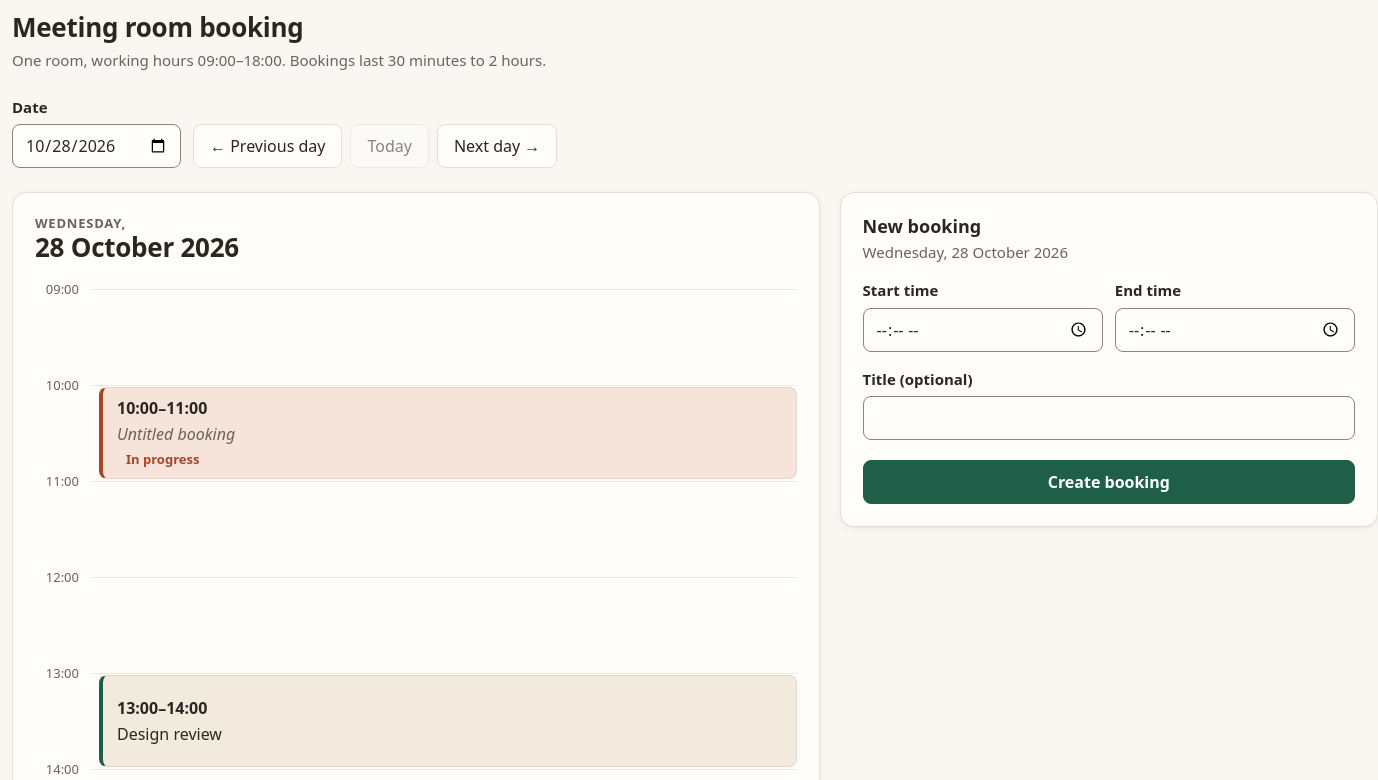
Test: 422 — server rejects what the client accepted › shows the server reason and keeps the values
Check: the list is shown, box [99,387,797,767]
Type "11:00" into the time field labelled "Start time" at [983, 330], box [863,308,1103,352]
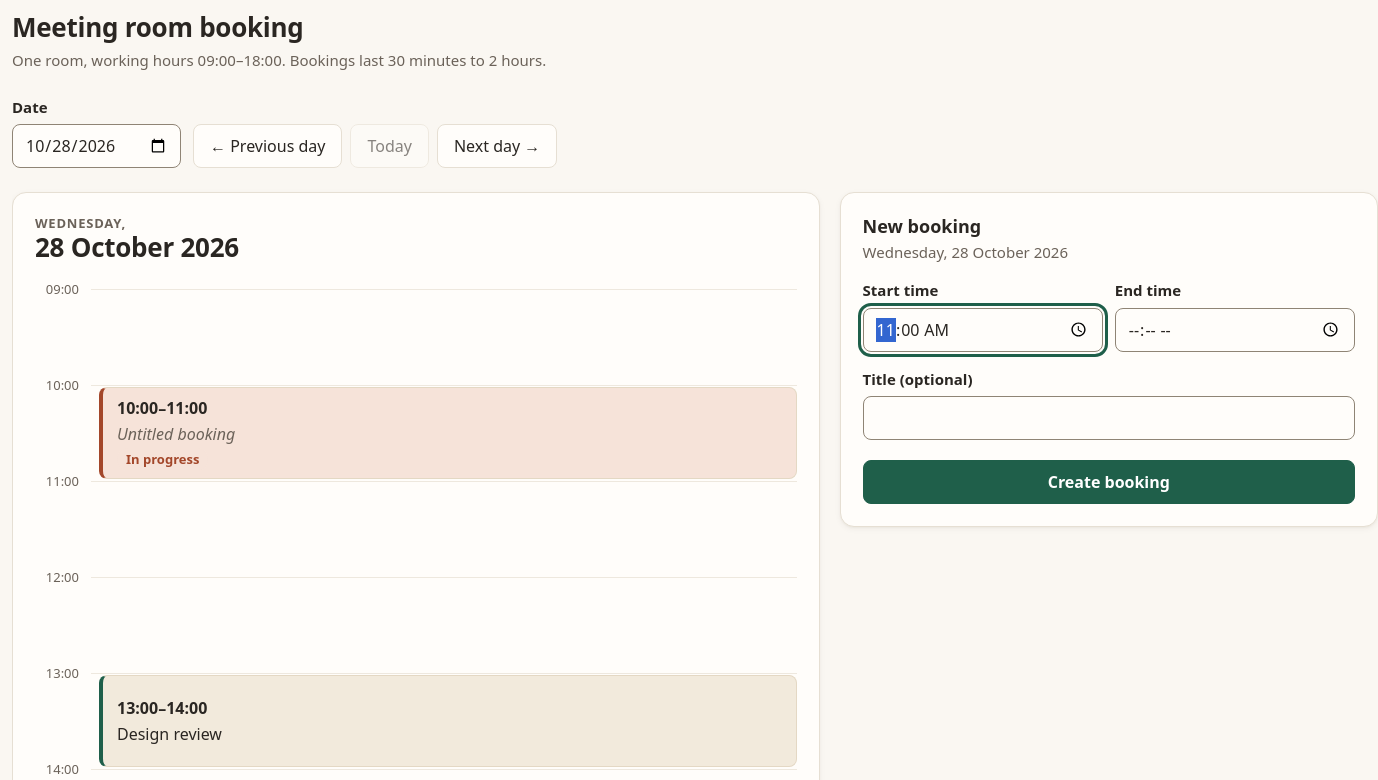
Type "11:45" into the time field labelled "End time" at [1235, 330], box [1115,308,1355,352]
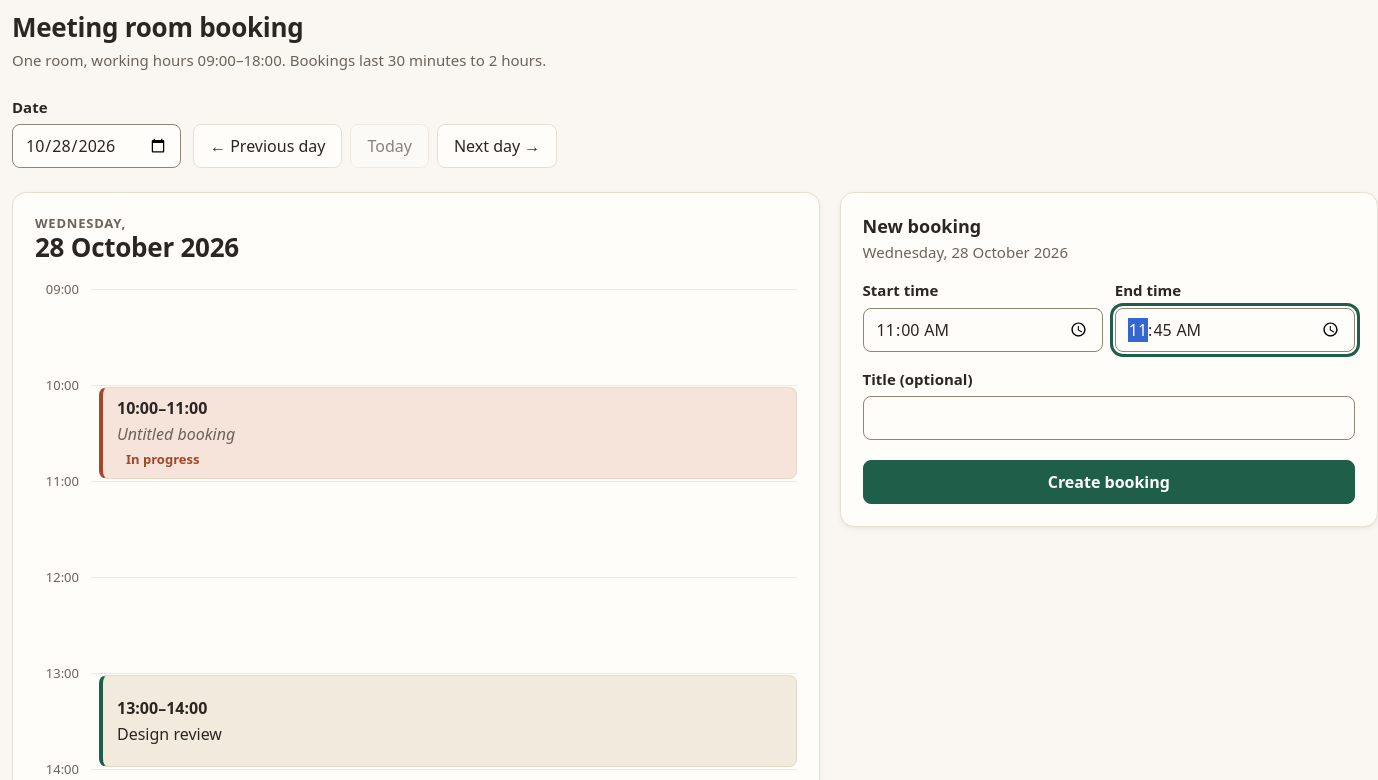
Press Tab
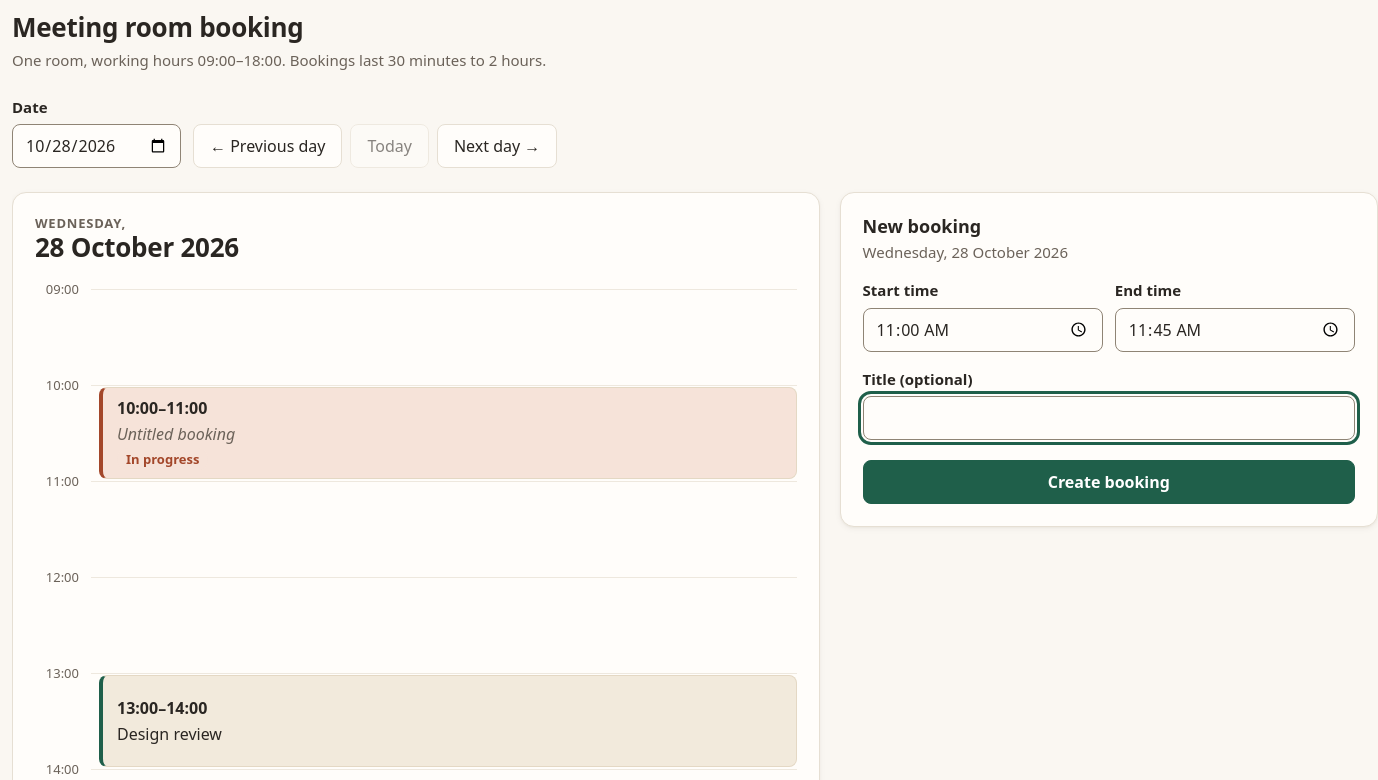
Click the button "Create booking" at [1109, 482], box [863,460,1355,504]
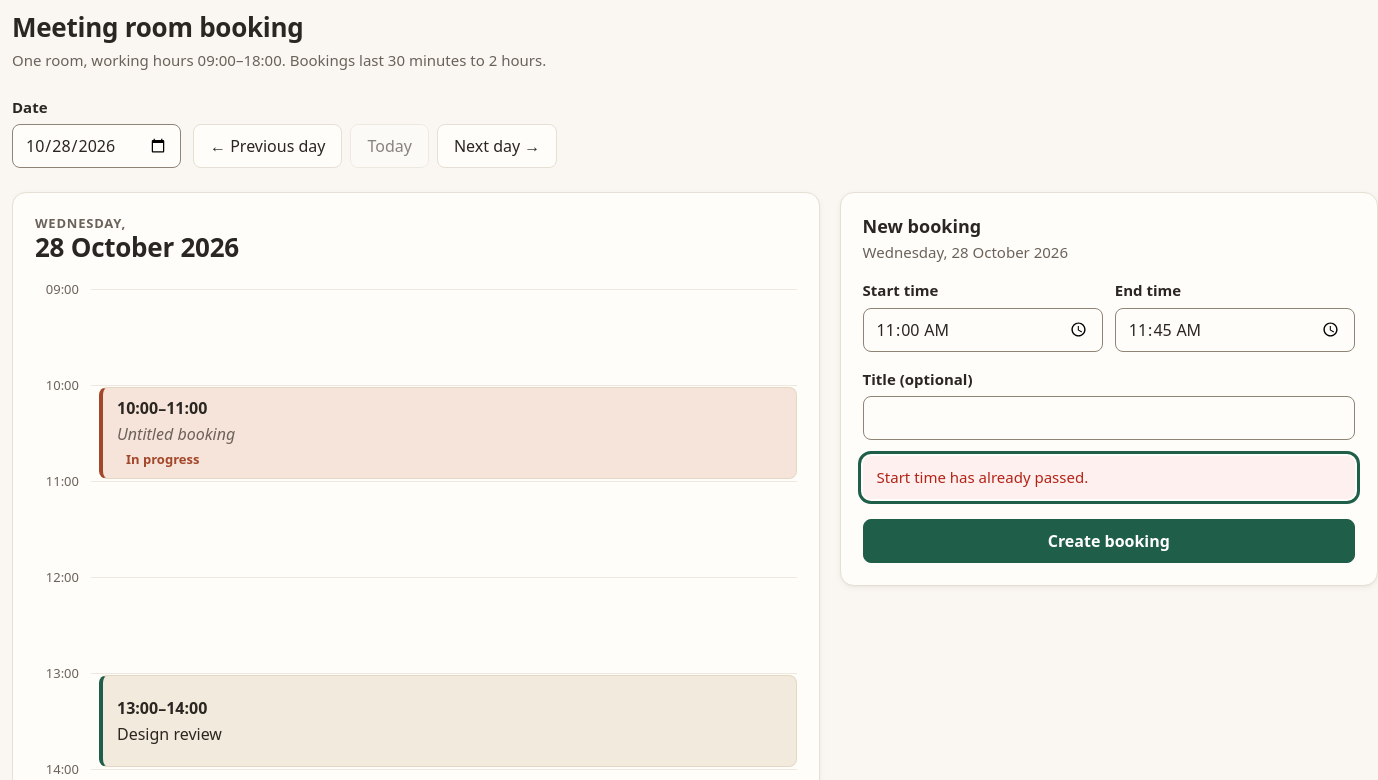
Check: the message reads "Start time has already passed.", box [877,467,1088,487]
